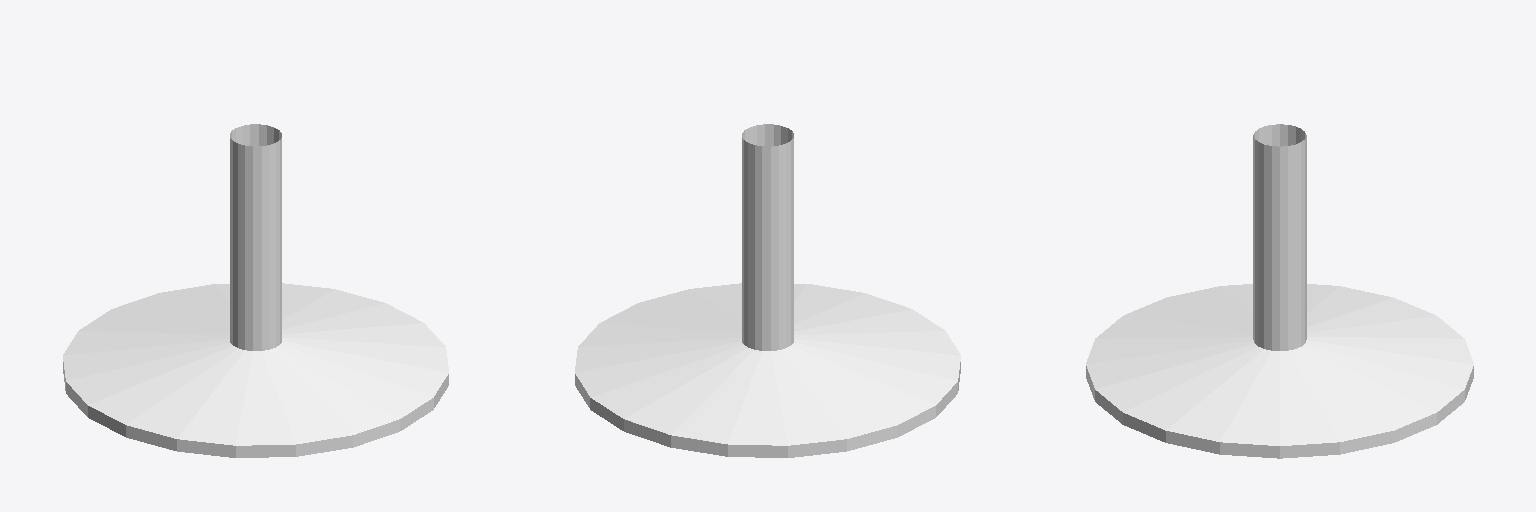
Rendered from TableStand.obj.
3 renders of one model, left to right at view 1: azimuth 30°, elevation 25°; view 2: azimuth 150°, elevation 25°; view 3: azimuth 270°, elevation 25°, orthographic.
Visible parts, largest first — view 1: Cylinder; view 2: Cylinder; view 3: Cylinder.
Part boxes in pixels (x1,y1,x2,y2): Cylinder: (63,124,448,457); Cylinder: (575,124,960,457); Cylinder: (1086,124,1473,458).
Bounding box in the file's own units: 1.2 × 0.8184 × 1.2.